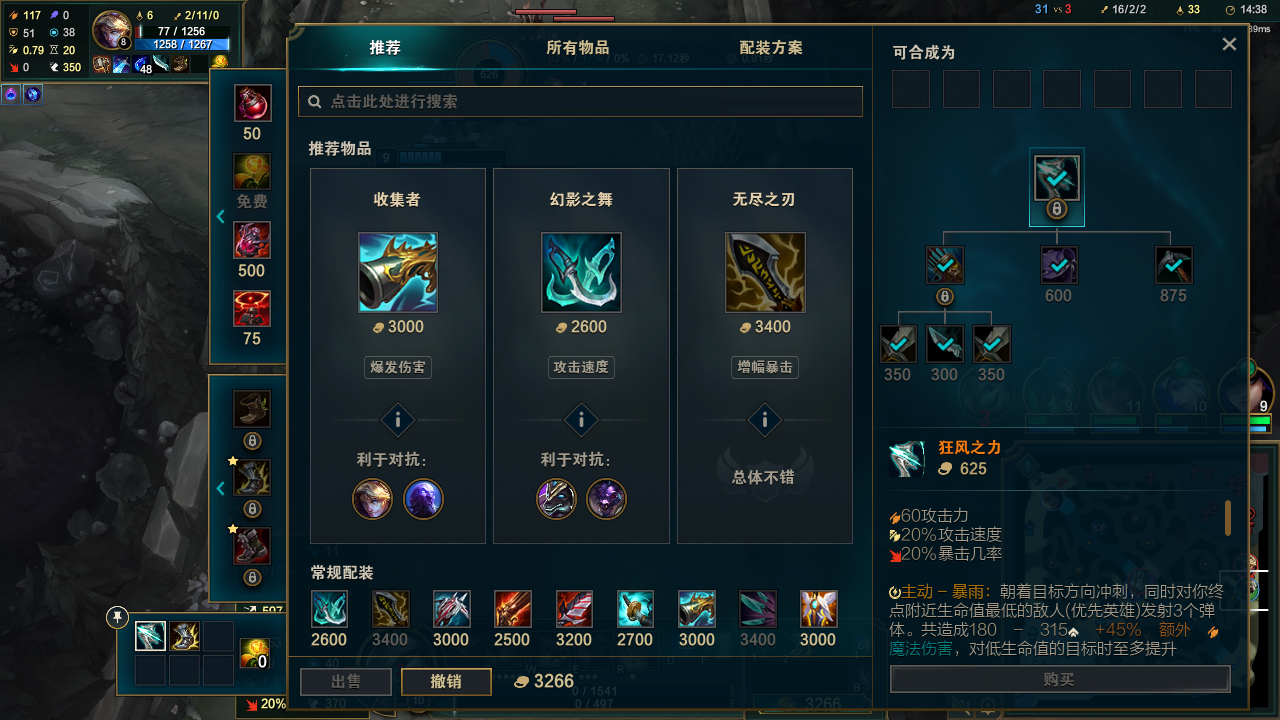GTH: (371, 400, 427, 446), (556, 396, 612, 442), (740, 397, 795, 442)
TJJM: (320, 34, 447, 77)
